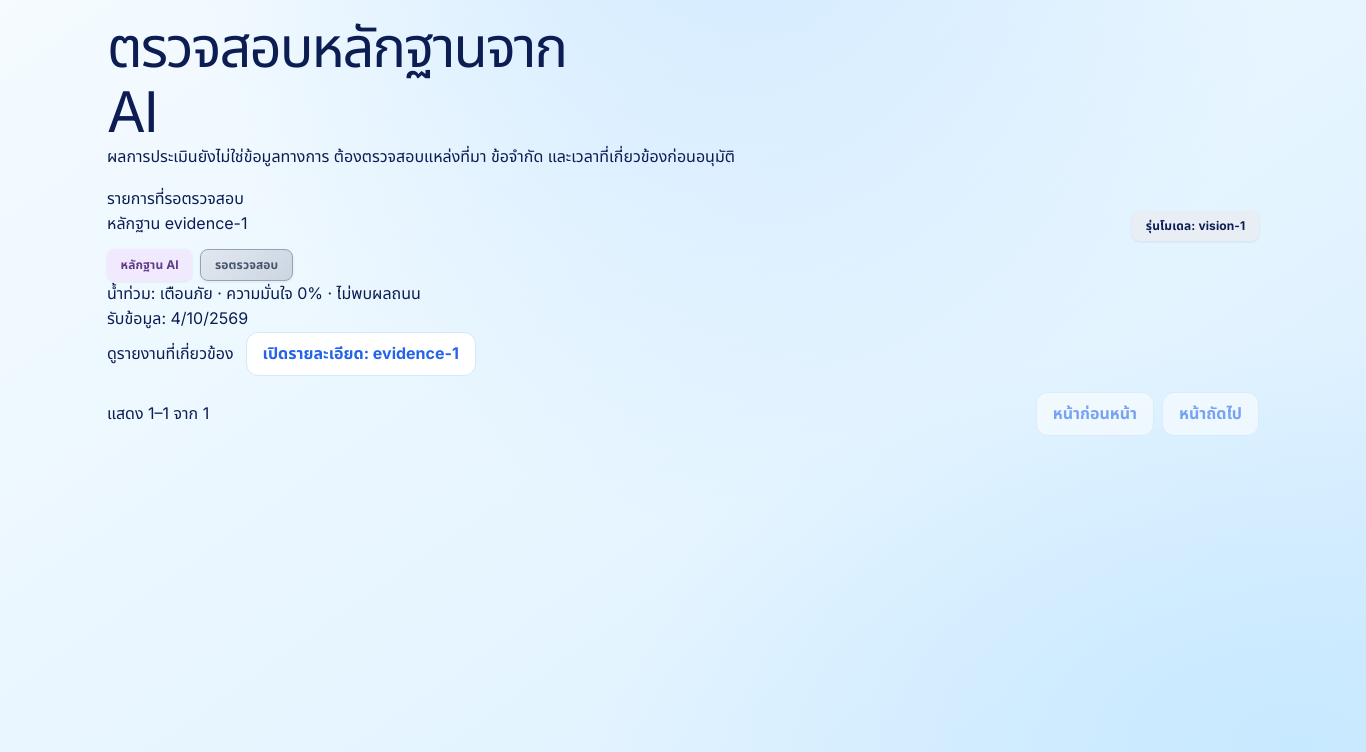
Test: AIEvidenceReview › loads the source image only through the protected report media API and exposes failure
Click the button "เปิดรายละเอียด: evidence-1": (361, 354) [246,332,476,376]
(page scrolled)
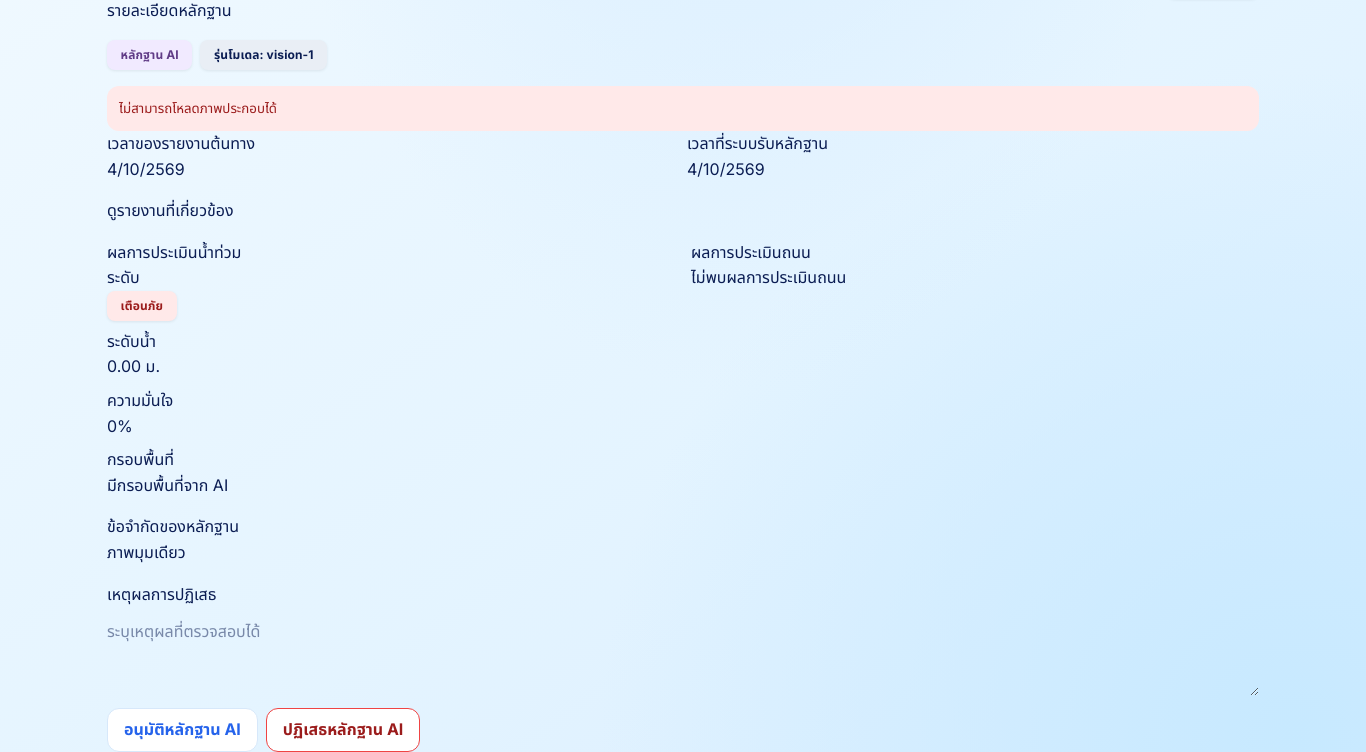
Expected: the text "ไม่สามารถโหลดภาพประกอบได้" is shown, [107,86,1259,131]
